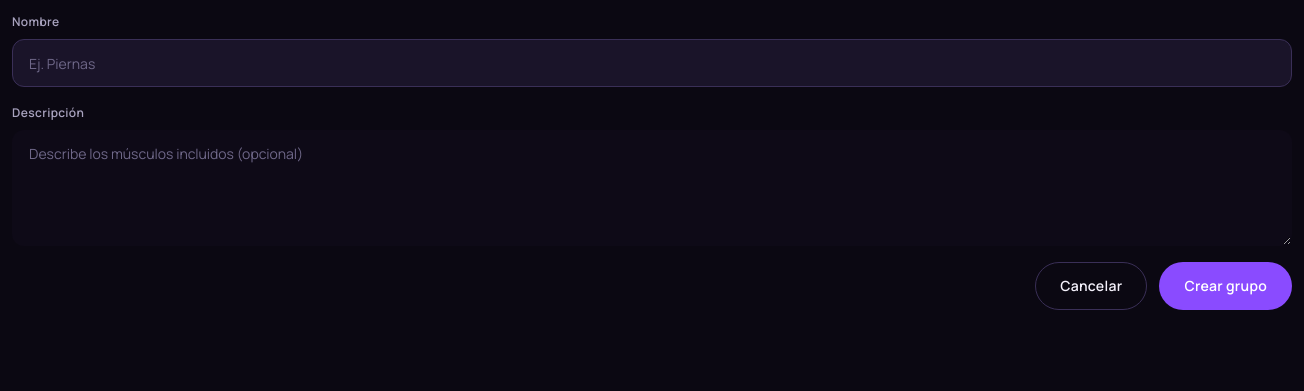
Test: MuscleGroupForm › shows the server duplicate-name error
In the field labelled "Nombre": (652, 63) [12, 39, 1292, 87], type "Pecho"
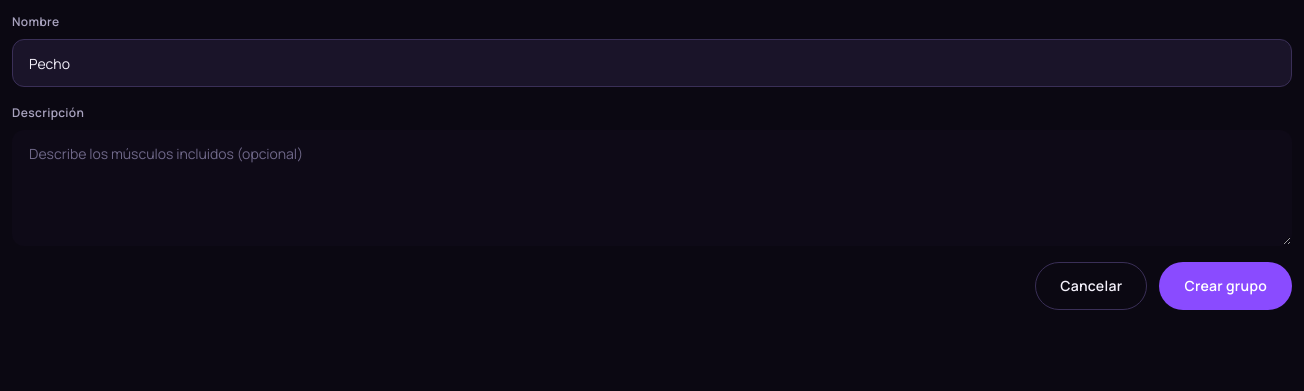
Click the button "Crear grupo": (1226, 286) [1159, 262, 1292, 310]
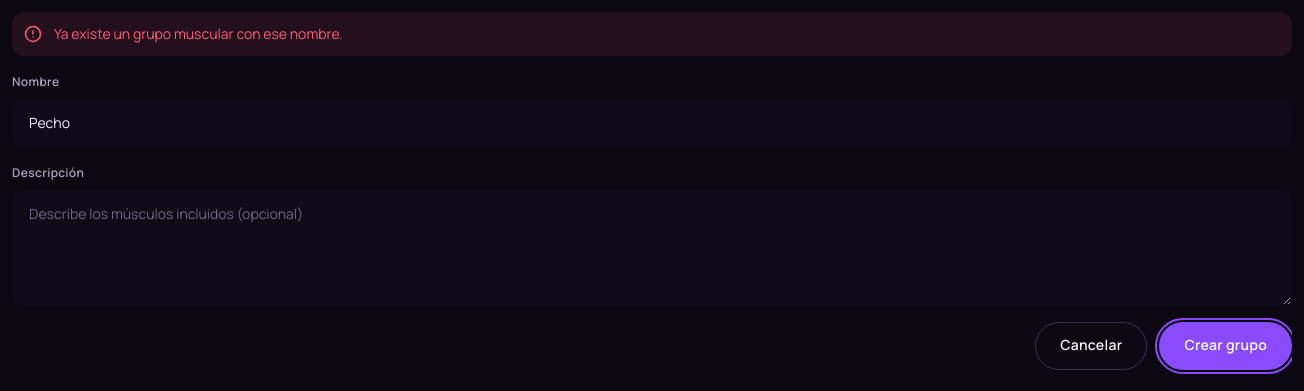
Result: the message reads "Ya existe un grupo muscular con ese nombre." at [54, 24, 343, 43]
